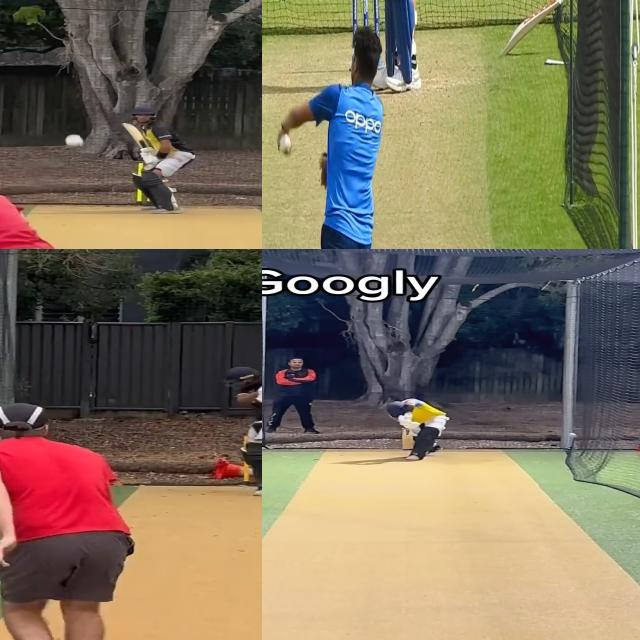Cricket ball: (63, 132, 86, 150), (279, 130, 293, 159), (568, 433, 578, 437)
